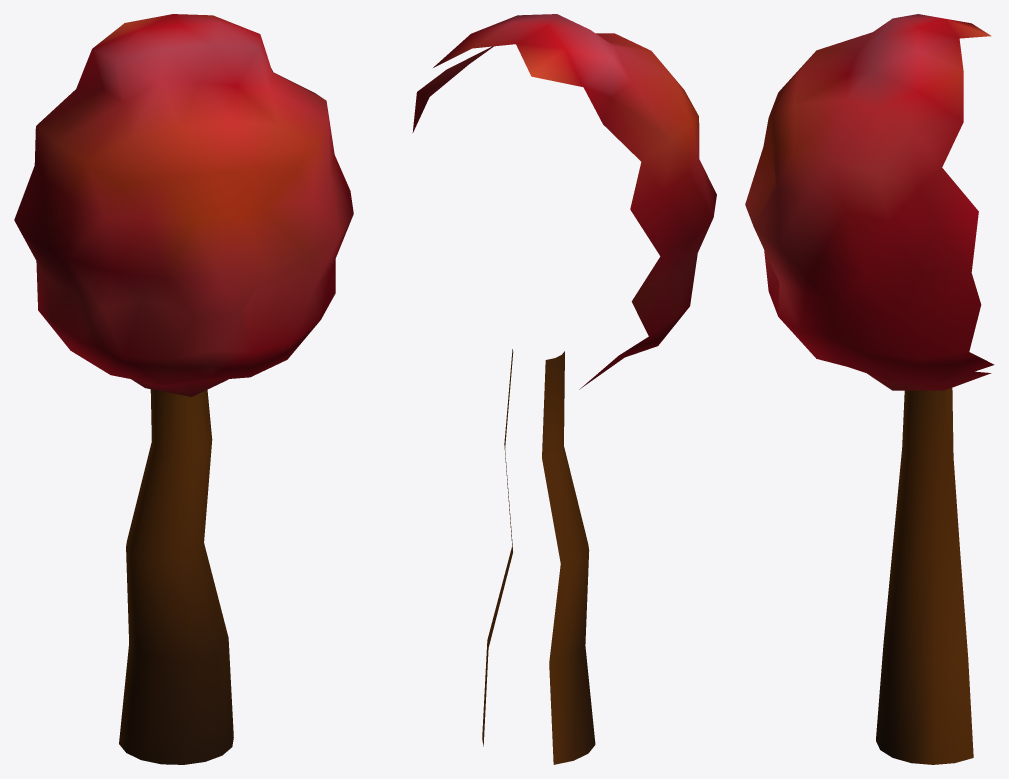
File: TreeRed.glb
The picture shows the model from 3 angles, left to right: view 1: azimuth 30°, elevation 25°; view 2: azimuth 150°, elevation 25°; view 3: azimuth 270°, elevation 25°; orthographic projection.
Parts seen in each view (by area): view 1: TreeRed; view 2: TreeRed; view 3: TreeRed.
Boxes of the visible parts, box(x1,y1,x2,y2) form: TreeRed: box(14, 14, 353, 764); TreeRed: box(412, 14, 716, 764); TreeRed: box(745, 14, 994, 764).
Bounding box in the file's own units: 1.74 × 4.04 × 1.28.
